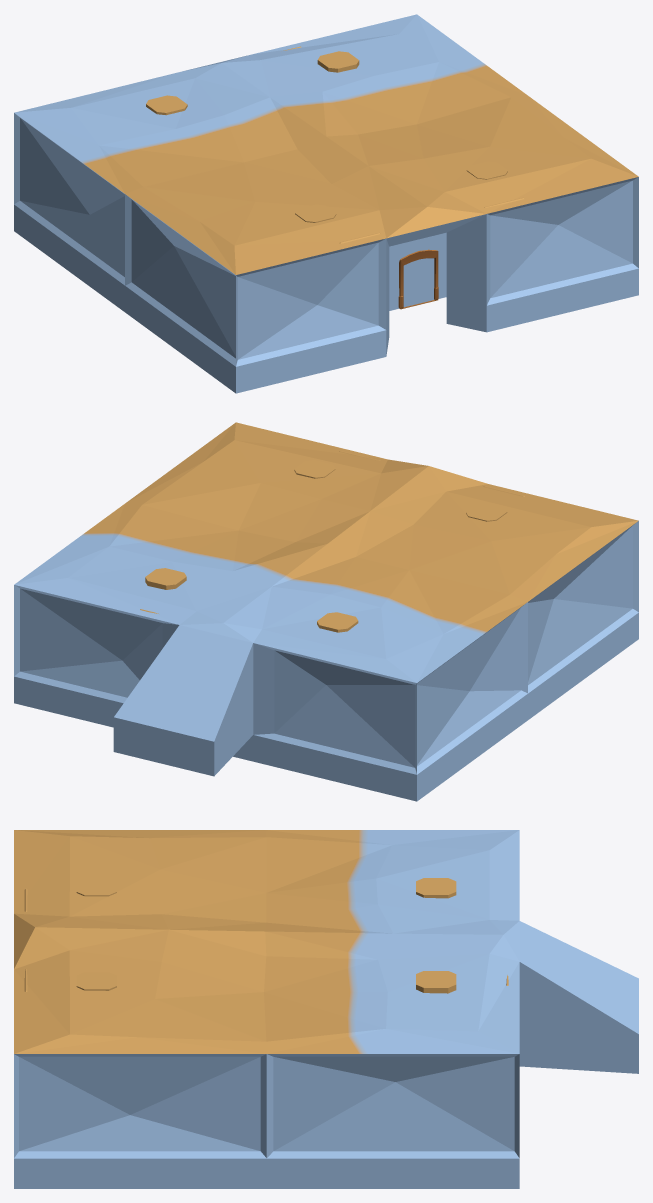
Rendered from vRoom2.fbx.
3 views of the same model, one above another, from view 1: azimuth 30°, elevation 25°; view 2: azimuth 150°, elevation 25°; view 3: azimuth 270°, elevation 25° (orthographic). The views are drawn at different scales.
Visible parts, largest first — view 1: vRoom; view 2: vRoom; view 3: vRoom.
Part boxes in pixels (x1,y1,x2,y2): vRoom: [14, 14, 638, 393]; vRoom: [14, 422, 638, 801]; vRoom: [14, 830, 638, 1188].
Bounding box in the file's own units: 69.42 × 21.56 × 81.84.
